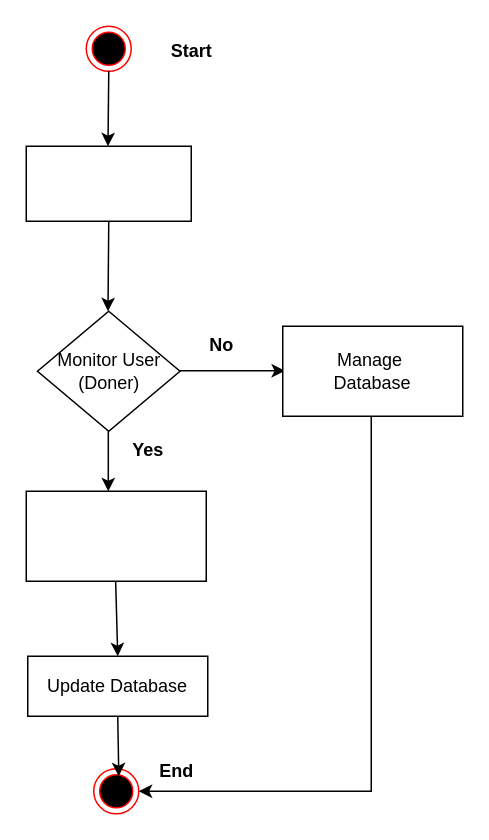
This 489x840 diagram has some shape labels left out. The centre of each missing label's shape, as x and y in pixels:
Accept/Reject Request from User (Doner): the point at 115,535
Log In: the point at 108,183
